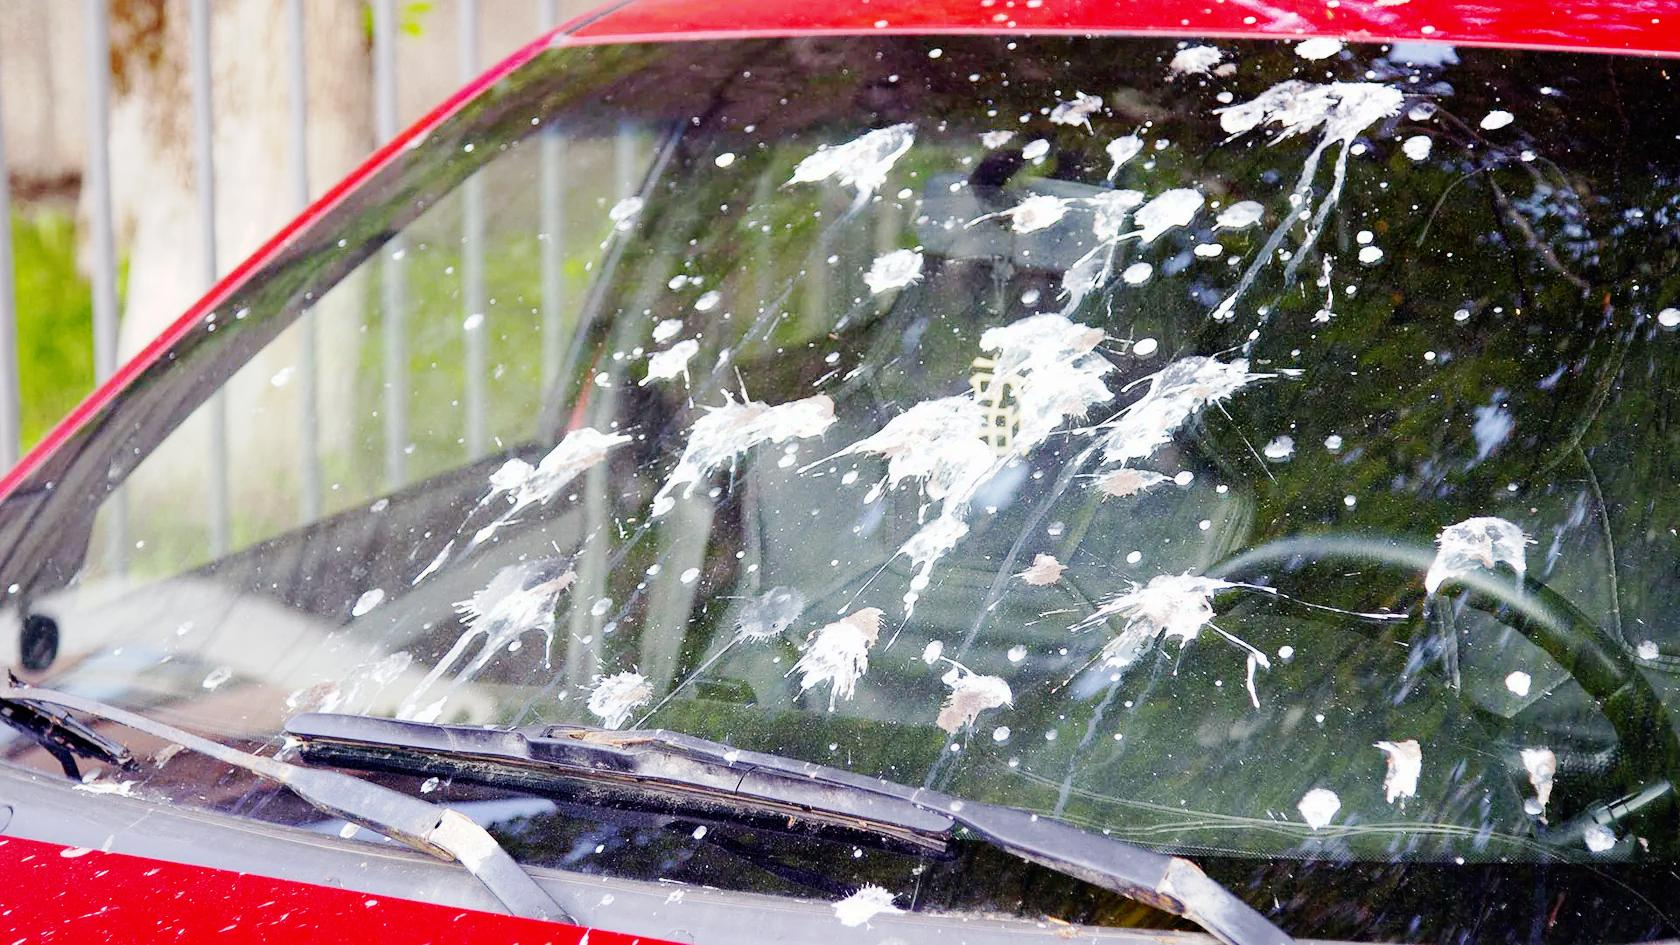Bird Poop: (834, 314, 1112, 642), (1213, 81, 1402, 318), (396, 558, 576, 720), (1079, 573, 1269, 707), (1064, 357, 1277, 472), (635, 586, 805, 723), (651, 395, 834, 515), (472, 427, 630, 545), (1060, 188, 1203, 316), (788, 125, 912, 205), (792, 609, 882, 711), (922, 642, 1010, 734), (1426, 517, 1525, 592), (968, 193, 1074, 233), (587, 672, 652, 727), (360, 651, 412, 715), (1375, 740, 1422, 801), (832, 885, 898, 927), (1521, 748, 1555, 822), (865, 250, 922, 293), (640, 340, 698, 382), (286, 680, 340, 715), (1101, 468, 1165, 496), (1050, 92, 1102, 125), (413, 541, 452, 583), (1300, 789, 1340, 828), (1107, 135, 1141, 178), (1312, 254, 1333, 322), (1022, 555, 1066, 585), (1217, 201, 1263, 228), (1171, 46, 1221, 72), (73, 777, 133, 795), (1296, 37, 1341, 59), (610, 197, 642, 228), (1584, 826, 1617, 852), (353, 588, 383, 615), (1357, 231, 1381, 262), (1480, 108, 1513, 130), (1403, 135, 1431, 160), (1263, 436, 1293, 458), (653, 320, 681, 342), (1123, 263, 1152, 283), (1506, 672, 1529, 696), (1023, 138, 1049, 160), (982, 132, 1015, 148), (278, 737, 303, 758), (695, 290, 719, 310), (1133, 338, 1157, 355), (1657, 308, 1679, 327), (1007, 645, 1026, 666), (463, 313, 483, 330), (1638, 640, 1657, 658), (680, 568, 699, 583), (1173, 471, 1193, 485), (1323, 434, 1340, 450), (715, 153, 734, 166), (1126, 552, 1140, 562)
